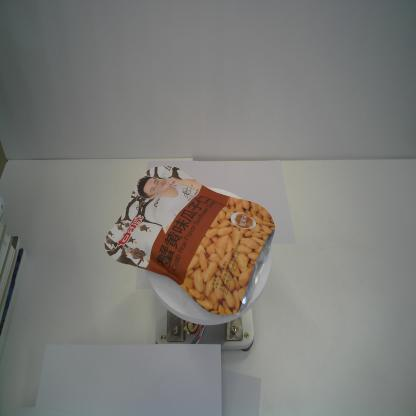Dried Fruit: (104, 163, 275, 316)
